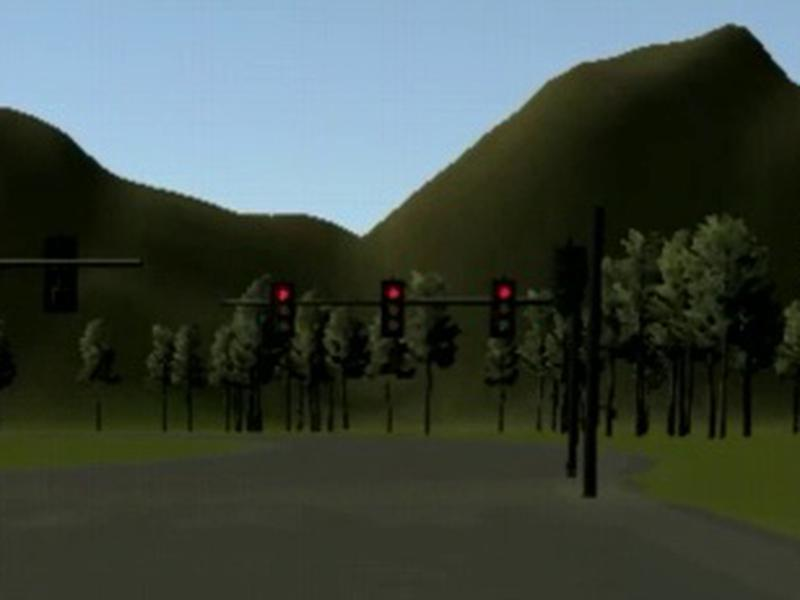Red: (490, 278, 518, 338), (380, 280, 406, 337), (271, 283, 296, 339)
